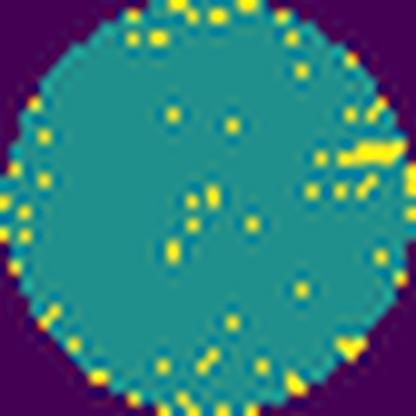Edge-Loc: (339, 136, 407, 167)
